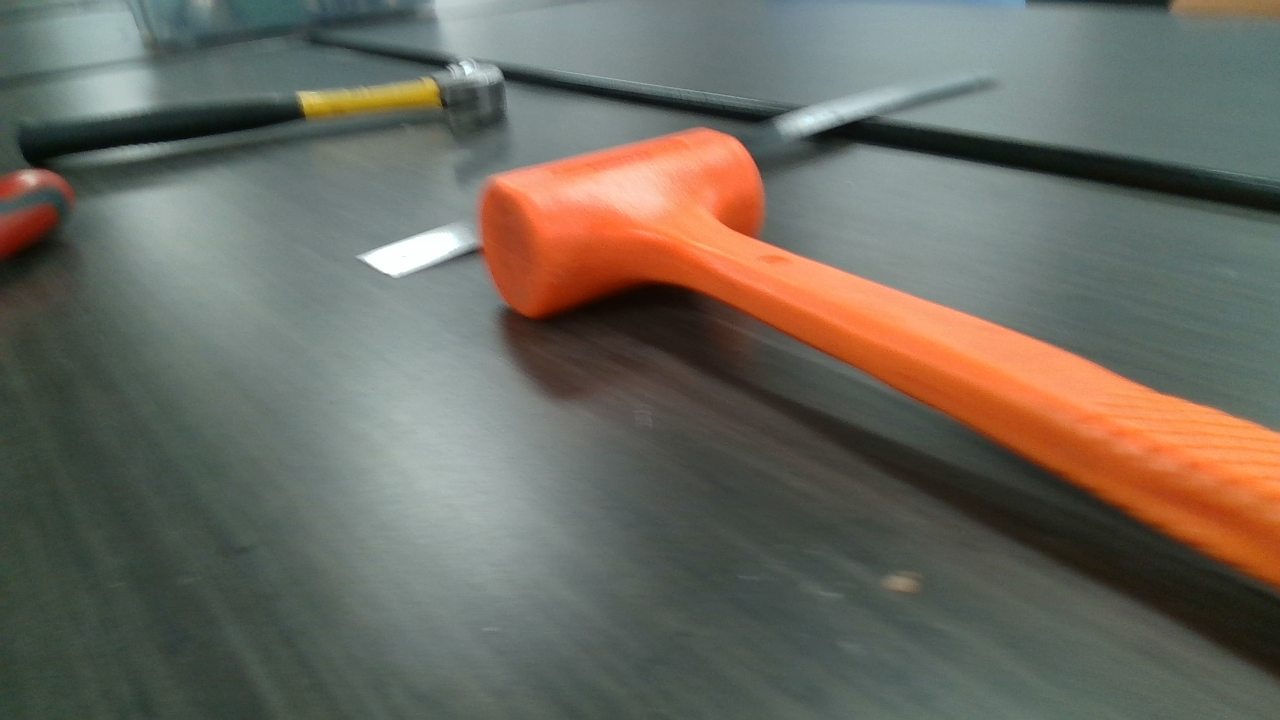Orange Hammer: (480, 128, 1270, 661)
